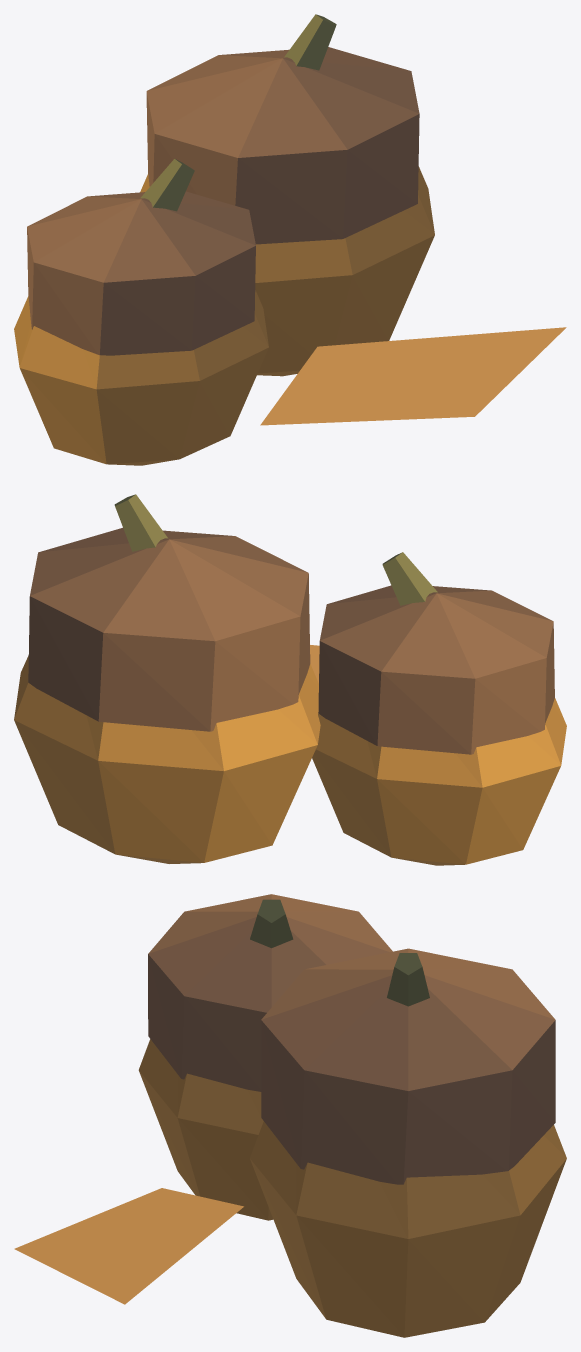
The model's file is season_find_autumn.glb.
The picture shows the model from 3 angles, top to bottom: view 1: azimuth 30°, elevation 25°; view 2: azimuth 150°, elevation 25°; view 3: azimuth 270°, elevation 25°; orthographic projection. The views are drawn at different scales.
Visible parts, largest first — view 1: Saisonfund · autumn; view 2: Saisonfund · autumn; view 3: Saisonfund · autumn.
Part boxes in pixels (x1,y1,x2,y2): Saisonfund · autumn: [14, 14, 566, 465]; Saisonfund · autumn: [14, 494, 566, 865]; Saisonfund · autumn: [14, 894, 566, 1337].
Bounding box in the file's own units: 0.515 × 0.357 × 0.4487.
